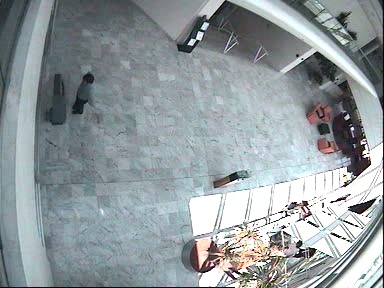person: (72, 72, 96, 114), (282, 200, 313, 218)
